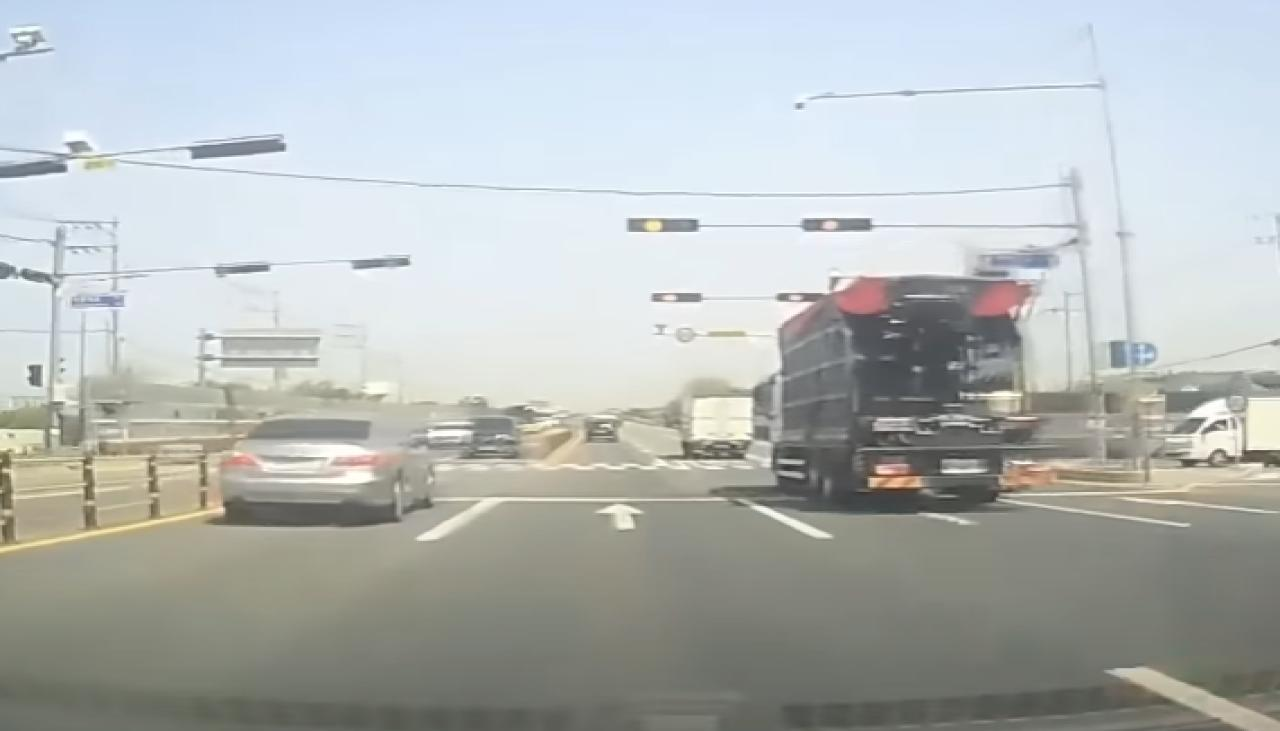Yellow Light: (643, 217, 665, 233), (820, 218, 843, 232)
